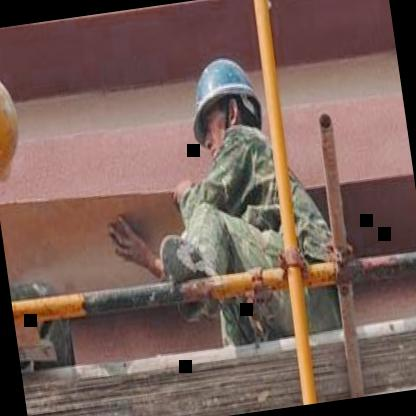helmet: (174, 41, 273, 175)
